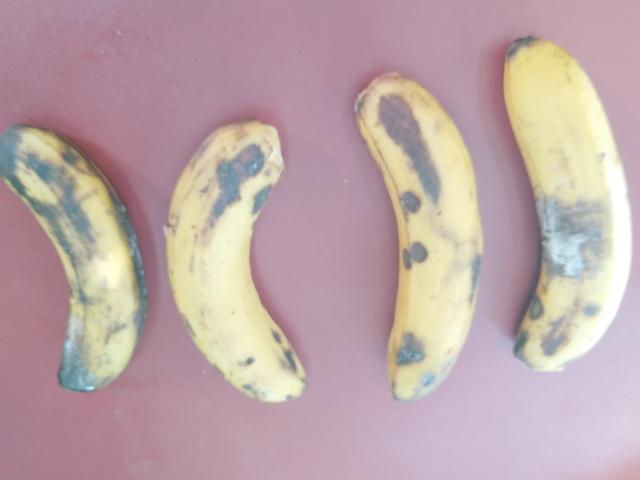overripe: (332, 52, 502, 428), (151, 107, 328, 413)
rotten: (495, 35, 639, 395), (0, 90, 155, 416)
